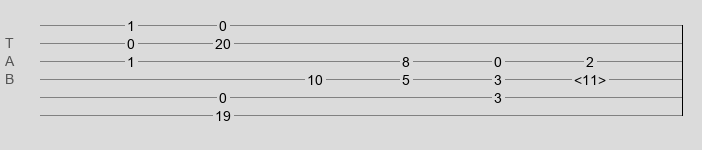0: (127, 36, 135, 46), (219, 18, 227, 28), (219, 90, 227, 100), (494, 54, 502, 64)
1: (127, 18, 135, 28), (127, 54, 135, 64)
10: (307, 72, 323, 82)
19: (215, 108, 231, 118)
2: (586, 54, 594, 64)
20: (215, 36, 231, 46)
3: (494, 90, 502, 100), (494, 72, 502, 82)
5: (402, 72, 410, 82)
8: (402, 54, 410, 64)
harmonic: (574, 72, 606, 82)
